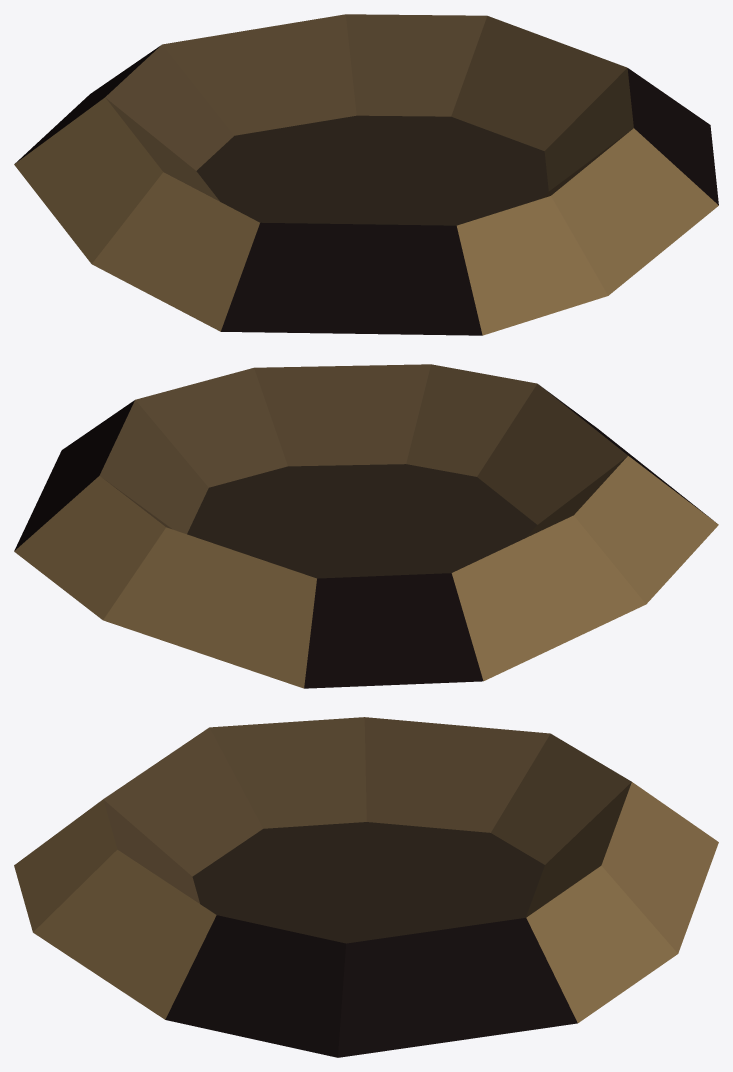
The model's file is scablands_crater.glb.
3 renders of one model, top to bottom at view 1: azimuth 30°, elevation 25°; view 2: azimuth 150°, elevation 25°; view 3: azimuth 270°, elevation 25°, orthographic. The views are drawn at different scales.
Parts seen in each view (by area): view 1: scablands_crater; view 2: scablands_crater; view 3: scablands_crater.
Boxes of the visible parts, left/top/right/bottom form: scablands_crater: left=14, top=14, right=718, bottom=335; scablands_crater: left=14, top=364, right=718, bottom=688; scablands_crater: left=14, top=717, right=718, bottom=1057.
Bounding box in the file's own units: 3.02 × 0.35 × 2.98.
